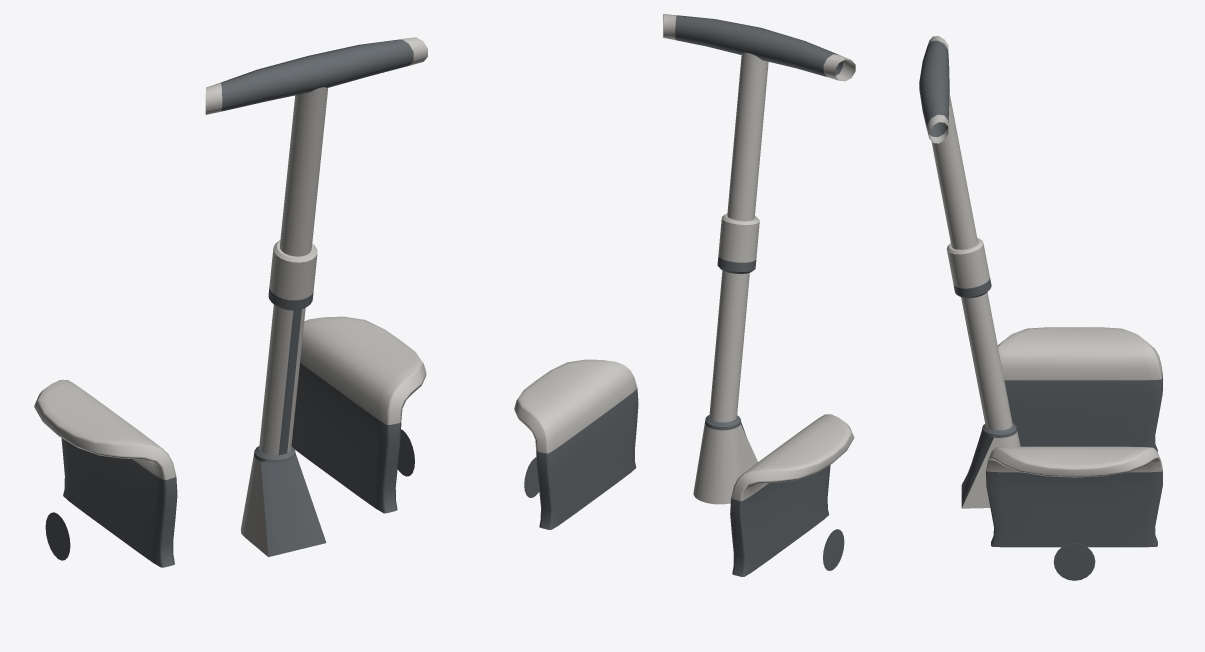
Rendered from segway.fbx.
3 views of the same model, side by side, from view 1: azimuth 30°, elevation 25°; view 2: azimuth 150°, elevation 25°; view 3: azimuth 270°, elevation 25° (orthographic). The views are drawn at different scales.
Parts seen in each view (by area): view 1: segway_body, tire; view 2: segway_body, tire; view 3: segway_body, tire.
Boxes of the visible parts, left/top/right/bottom form: segway_body: left=34, top=37, right=427, bottom=567; tire: left=45, top=429, right=414, bottom=560; segway_body: left=514, top=14, right=855, bottom=576; tire: left=524, top=457, right=844, bottom=570; segway_body: left=919, top=36, right=1162, bottom=547; tire: left=1053, top=543, right=1095, bottom=580.
Bounding box in the file's own units: 69.8 × 115 × 56.23.
